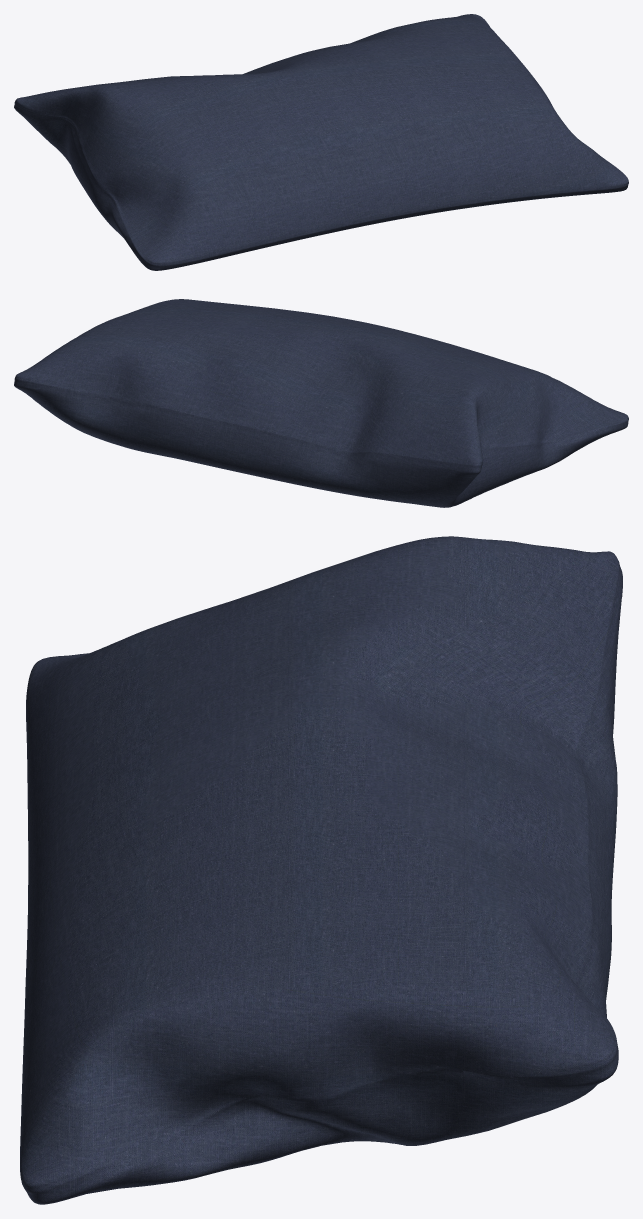
File: pillow7.fbx
The picture shows the model from 3 angles, top to bottom: view 1: azimuth 30°, elevation 25°; view 2: azimuth 150°, elevation 25°; view 3: azimuth 270°, elevation 25°; orthographic projection. The views are drawn at different scales.
Parts seen in each view (by area): view 1: Pillow2; view 2: Pillow2; view 3: Pillow2.
Part boxes in pixels (box(x1,y1,x2,y2)): Pillow2: box(14, 14, 628, 270); Pillow2: box(14, 299, 628, 507); Pillow2: box(20, 536, 622, 1204).
Bounding box in the file's own units: 74.85 × 19.45 × 40.81.
